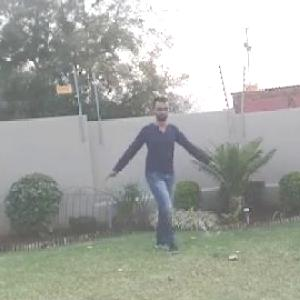land: (104, 100, 212, 242)
